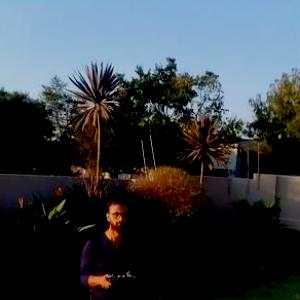follow: (74, 190, 145, 299)
